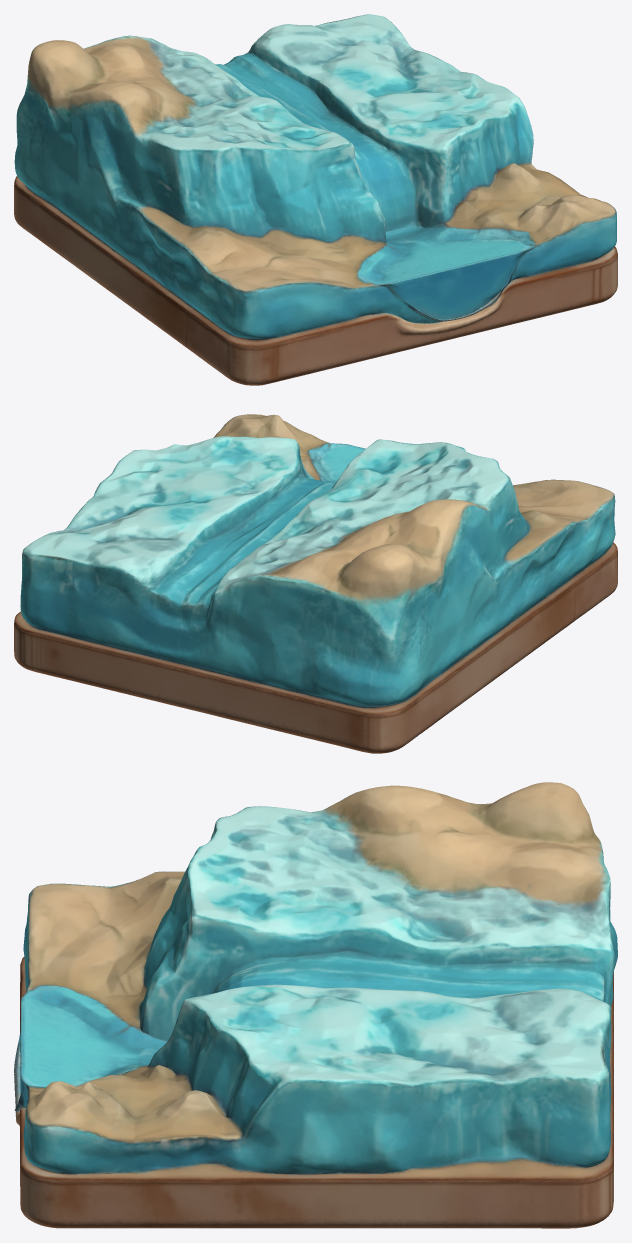
Rendered from grunt-led-1.glb.
The picture shows the model from 3 angles, top to bottom: view 1: azimuth 30°, elevation 25°; view 2: azimuth 150°, elevation 25°; view 3: azimuth 270°, elevation 25°; orthographic projection. The views are drawn at different scales.
Visible parts, largest first — view 1: geometry_0; view 2: geometry_0; view 3: geometry_0.
Part boxes in pixels (x1=…): geometry_0: x1=14, y1=14, x2=617, y2=385; geometry_0: x1=14, y1=414, x2=617, y2=753; geometry_0: x1=14, y1=782, x2=617, y2=1228.
Bounding box in the file's own units: 0.9301 × 0.4262 × 0.9981.
Materials: 1 (1 with a texture image).
